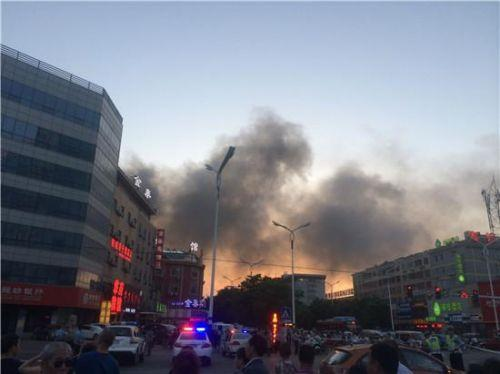smoke: (155, 119, 465, 264)
